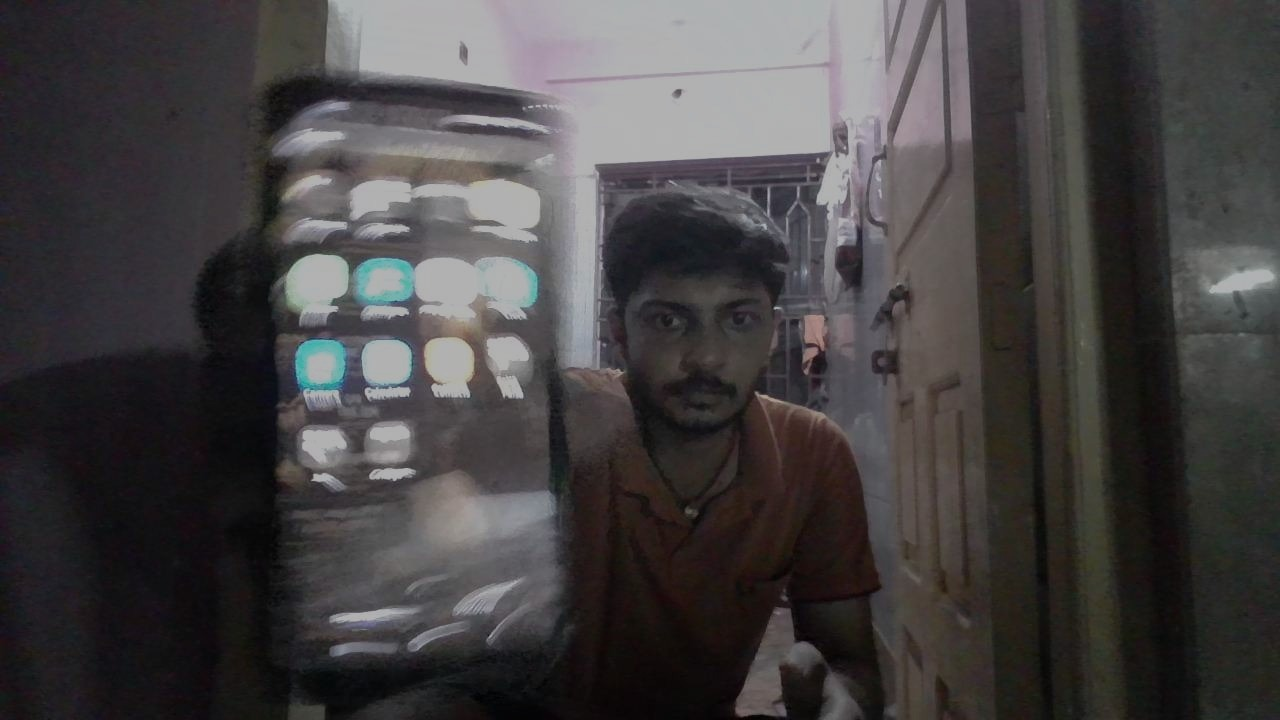red_box: (732, 411, 861, 567)
